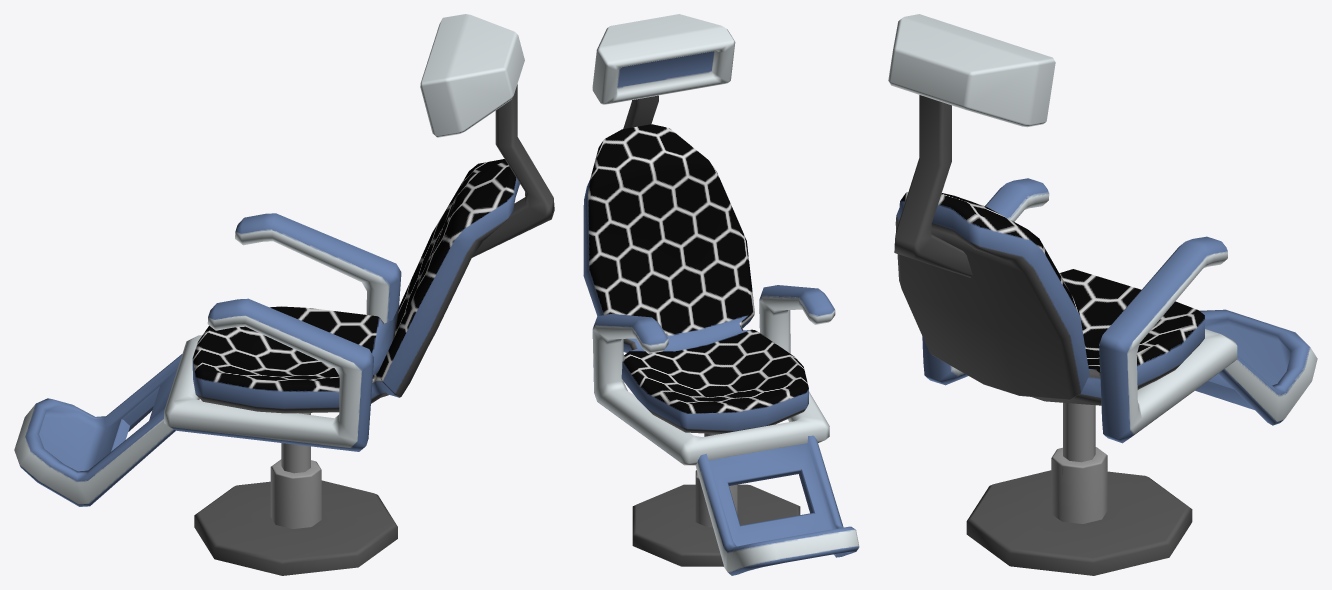
File: SM_Chair.fbx
3 renders of one model, left to right at view 1: azimuth 30°, elevation 25°; view 2: azimuth 150°, elevation 25°; view 3: azimuth 270°, elevation 25°, orthographic. The views are drawn at different scales.
Parts seen in each view (by area): view 1: SM_Chair; view 2: SM_Chair; view 3: SM_Chair.
Boxes of the visible parts, x1,y1,x2,y2 form: SM_Chair: (14, 14, 554, 575); SM_Chair: (583, 14, 859, 575); SM_Chair: (888, 14, 1317, 575).
Size of the model in its own units: 118 by 98.49 by 139.
1 material, 1 textured.
